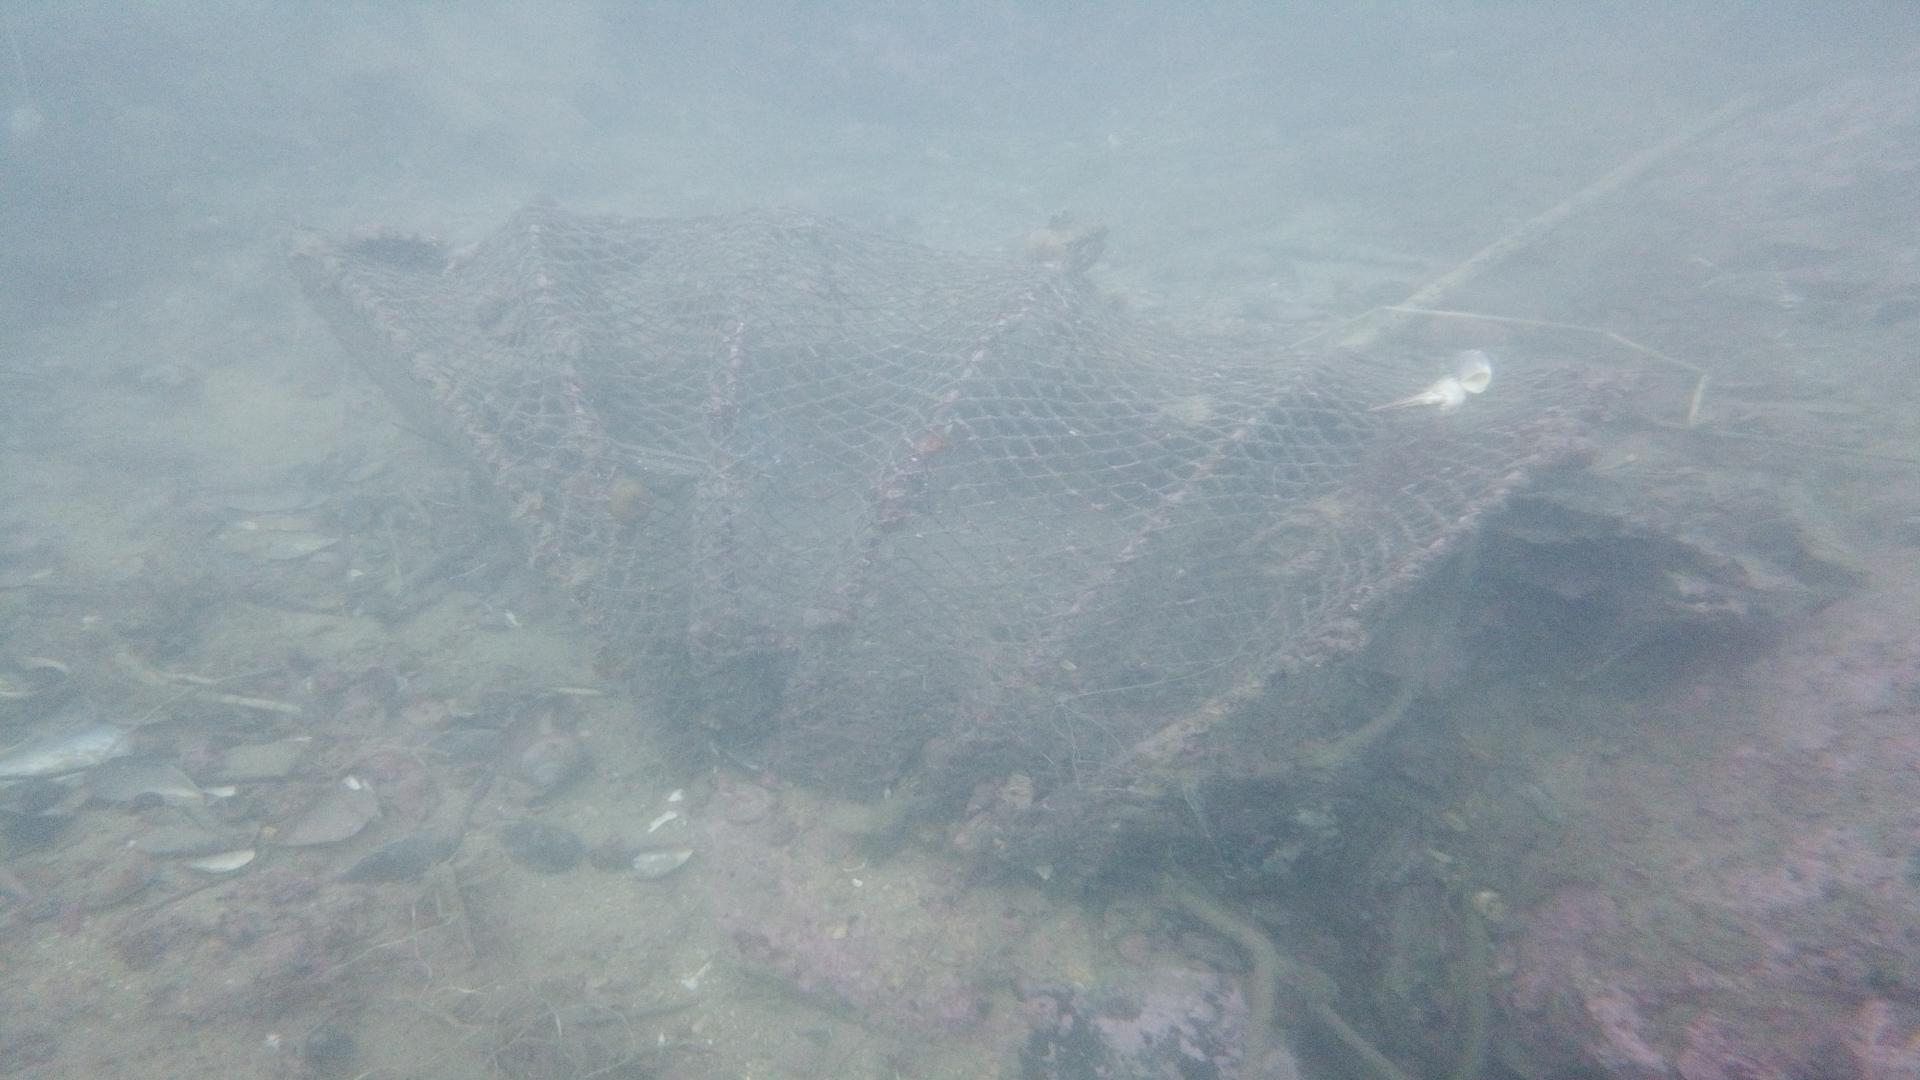spring fish trap: (276, 183, 1604, 894)
